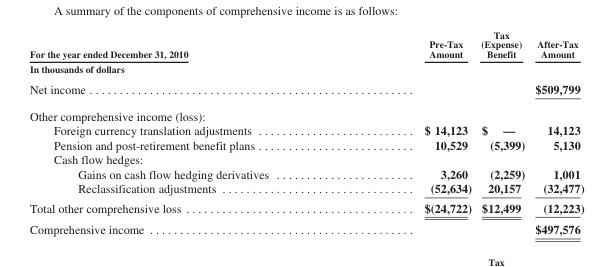table: (28, 28, 583, 236)
table column: (28, 28, 345, 236), (345, 28, 475, 236), (475, 28, 529, 236), (529, 28, 583, 236)
table column header: (28, 28, 583, 60)
table projected row header: (28, 102, 583, 122), (28, 60, 583, 77), (28, 152, 583, 166)
table row: (28, 28, 583, 60), (28, 77, 583, 102), (28, 197, 583, 218), (28, 102, 583, 122), (28, 218, 583, 236), (28, 60, 583, 77), (28, 180, 583, 197), (28, 122, 583, 137), (28, 137, 583, 152), (28, 152, 583, 166), (28, 166, 583, 180)
